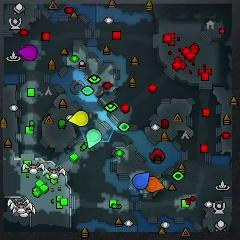p1Clone: (133, 172, 149, 190)
p2: (87, 129, 100, 149)
p3: (17, 45, 37, 61)
p4: (70, 111, 89, 126)
p5: (146, 176, 165, 192)
